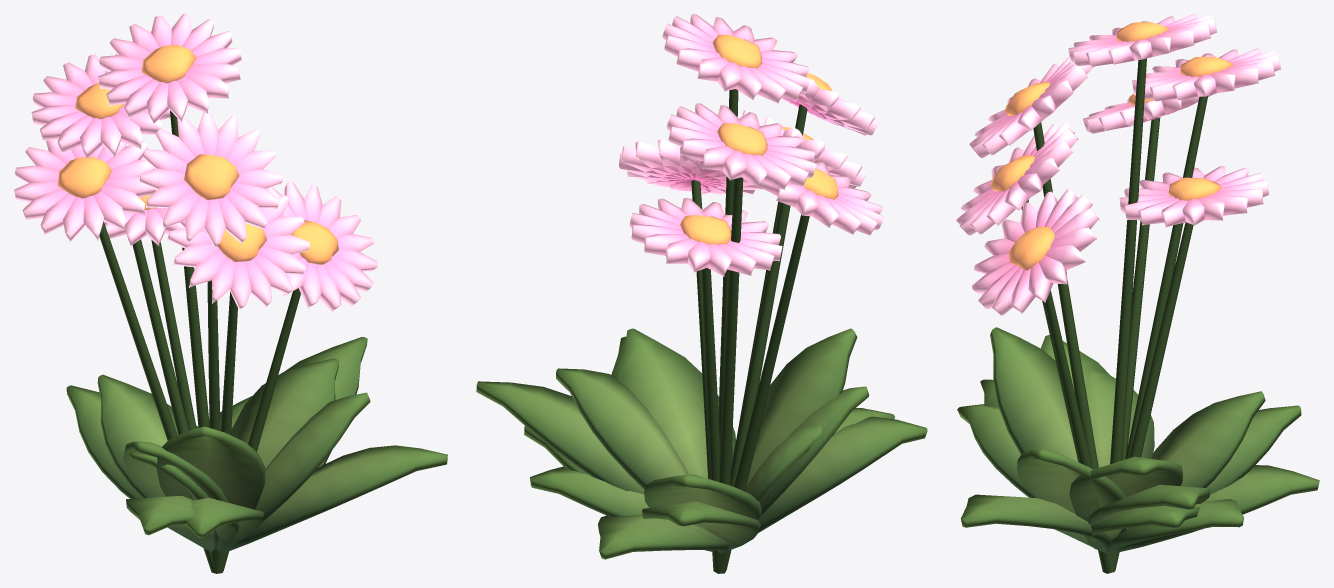
Rendered from hero_daisy.glb.
The picture shows the model from 3 angles, left to right: view 1: azimuth 30°, elevation 25°; view 2: azimuth 150°, elevation 25°; view 3: azimuth 270°, elevation 25°; orthographic projection. The views are drawn at different scales.
Visible parts, largest first — view 1: hero_petal_pink, hero_leaf, hero_stem; view 2: hero_leaf, hero_petal_pink, hero_stem; view 3: hero_leaf, hero_petal_pink, hero_stem.
Boxes of the visible parts, x1=… form: hero_petal_pink: x1=14, y1=14, x2=377, y2=312; hero_leaf: x1=66, y1=337, x2=447, y2=552; hero_stem: x1=99, y1=110, x2=300, y2=573; hero_leaf: x1=476, y1=328, x2=927, y2=559; hero_petal_pink: x1=618, y1=14, x2=884, y2=276; hero_stem: x1=691, y1=89, x2=809, y2=573; hero_leaf: x1=957, y1=327, x2=1319, y2=553; hero_petal_pink: x1=956, y1=14, x2=1281, y2=316; hero_stem: x1=1021, y1=58, x2=1207, y2=573.
Bounding box in the file's own units: 0.5697 × 0.8012 × 0.484.
